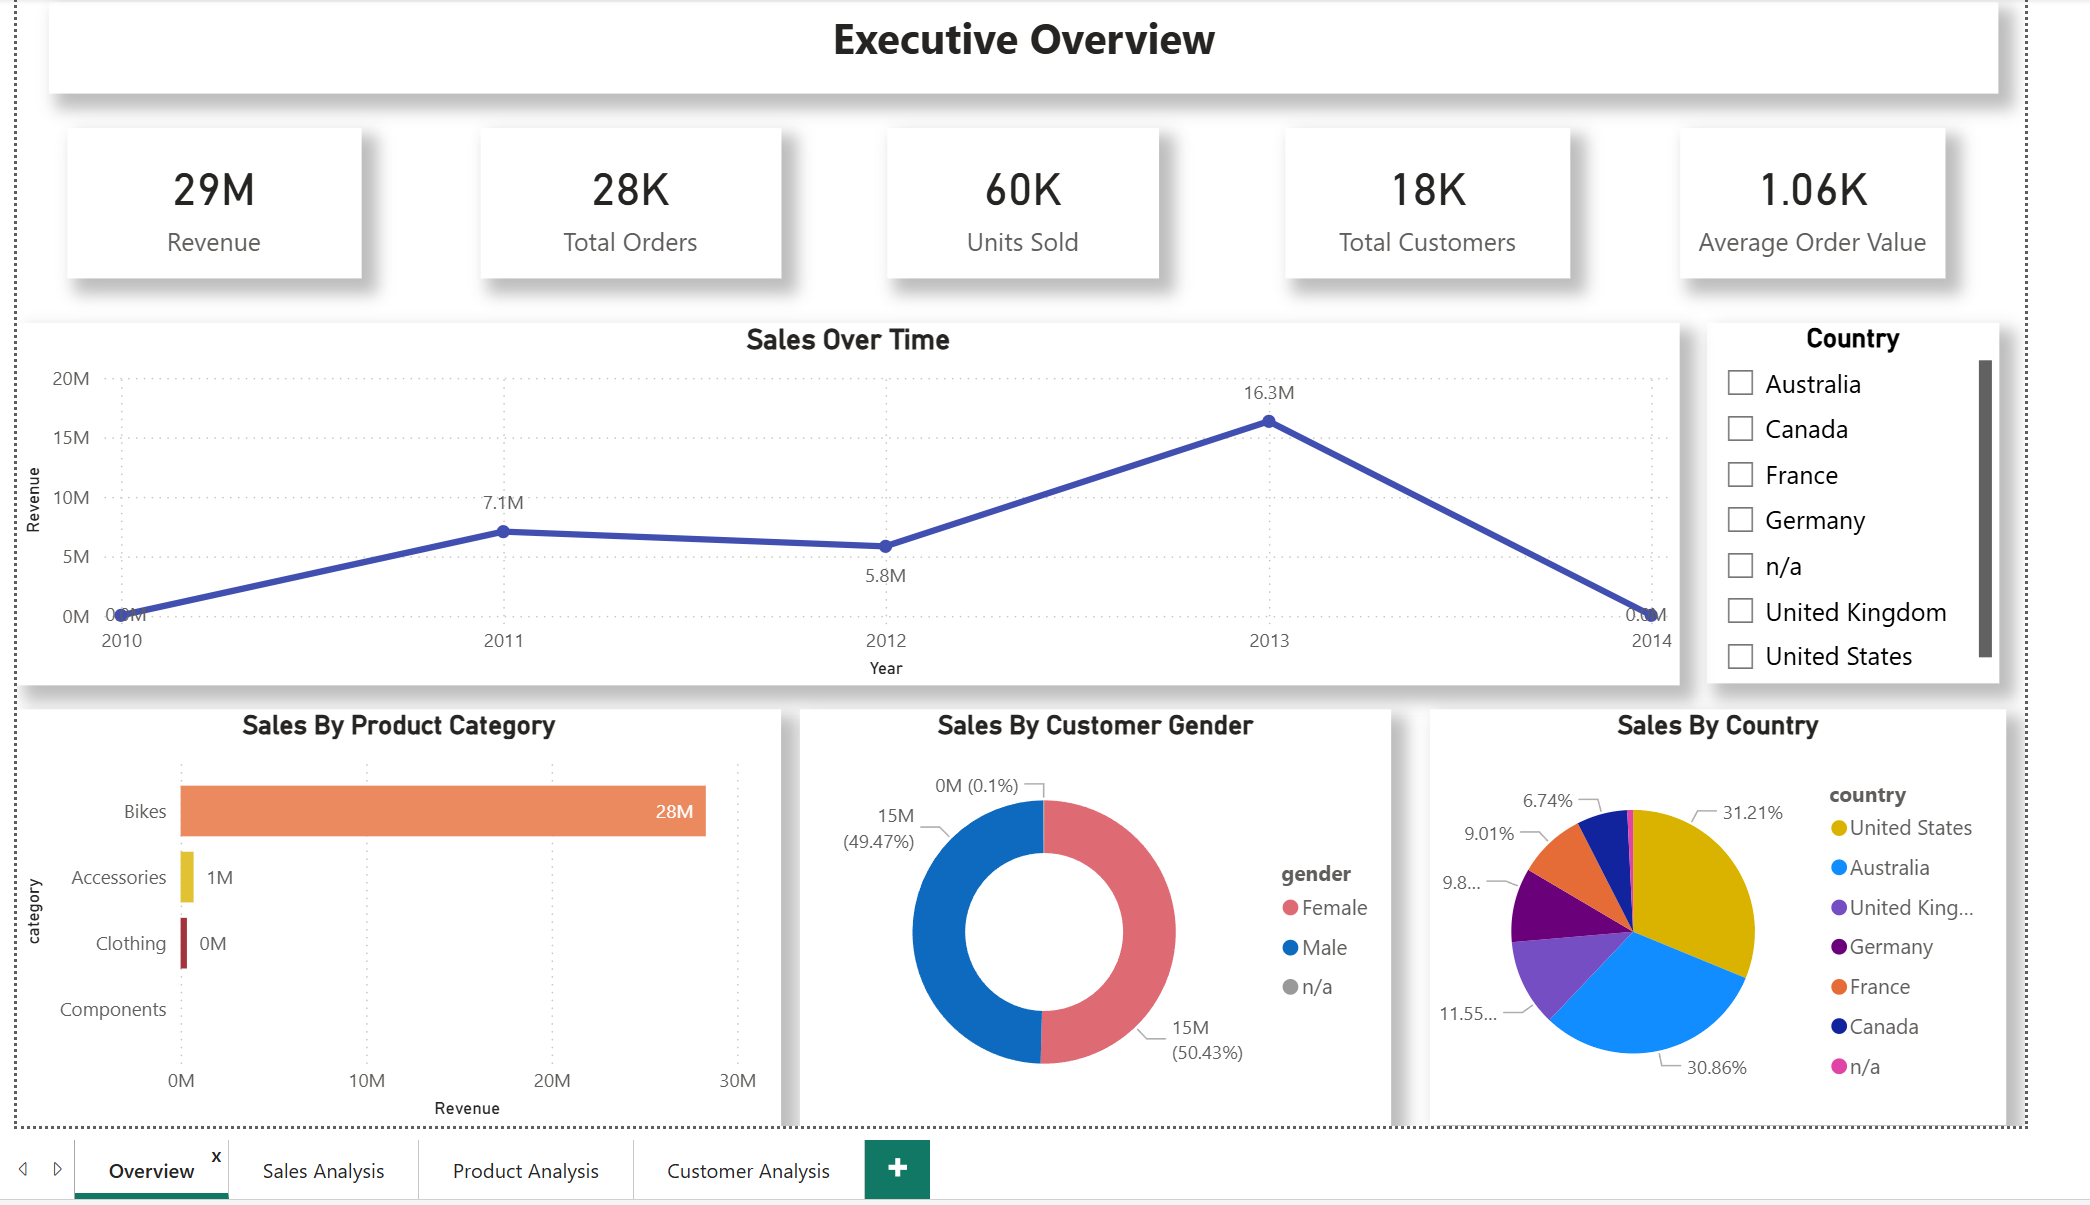

The page's visual inventory and layout, read from the dashboard file:
{"tool":"powerbi","page":{"name":"Overview","canvas":[1280,720],"ordinal":0},"visuals":[{"type":"textbox","box":[20.8,2.8,1242.5,58.2],"z":0},{"type":"slicer","title":"Country","fields":{"Values":["gold dim_customers.country"]},"box":[1077.5,208,185.8,231.6],"z":1000},{"type":"card","title":"Revenue","fields":{"Values":["gold dim_customers.Total Sales"]},"box":[31.9,83.2,187.2,95.7],"z":2000},{"type":"card","fields":{"Values":["gold dim_customers.Total Orders"]},"box":[295.4,83.2,191.4,95.7],"z":3000},{"type":"card","fields":{"Values":["gold dim_customers.Total Quantity"]},"box":[554.7,83.2,173.3,95.7],"z":4000},{"type":"card","fields":{"Values":["gold dim_customers.Total Customers"]},"box":[808.5,83.2,181.7,95.7],"z":5000},{"type":"card","fields":{"Values":["gold dim_customers.Average Order Value"]},"box":[1059.5,83.2,169.2,95.7],"z":6000},{"type":"lineChart","title":"Sales Over Time","fields":{"Category":["gold fact_sales.order_date.Variation.Date Hierarchy.Year","gold fact_sales.order_date.Variation.Date Hierarchy.Quarter","gold fact_sales.order_date.Variation.Date Hierarchy.Month","gold fact_sales.order_date.Variation.Date Hierarchy.Day"],"Y":["gold dim_customers.Total Sales"]},"box":[0,208.1,1059.6,231.2],"z":7000},{"type":"barChart","title":"Sales By Product Category","fields":{"Category":["gold dim_products.category"],"Y":["gold dim_customers.Total Sales"]},"box":[0,454.3,487,265.2],"z":8000},{"type":"donutChart","title":"Sales By Customer Gender","fields":{"Category":["gold dim_customers.gender"],"Y":["gold dim_customers.Total Sales"]},"box":[499.2,454.3,376.8,265.2],"z":9000},{"type":"pieChart","title":"Sales By Country","fields":{"Category":["gold dim_customers.country"],"Y":["gold dim_customers.Revenue"]},"box":[900,453.5,367.5,264.9],"z":10000}]}

Visuals, with their boxes on the page's 1280x720 design canvas (x1, y1, x2, y2). These are canvas units, not pixel positions in the 2090x1205 screenshot, which may show the page scaled, cropped or inside an application window:
textbox: (21,3,1263,61)
"Country" slicer: (1078,208,1263,440)
"Revenue" card: (32,83,219,179)
card - gold dim_customers.Total Orders: (295,83,487,179)
card - gold dim_customers.Total Quantity: (555,83,728,179)
card - gold dim_customers.Total Customers: (808,83,990,179)
card - gold dim_customers.Average Order Value: (1060,83,1229,179)
"Sales Over Time" lineChart: (0,208,1060,439)
"Sales By Product Category" barChart: (0,454,487,720)
"Sales By Customer Gender" donutChart: (499,454,876,720)
"Sales By Country" pieChart: (900,454,1268,718)
